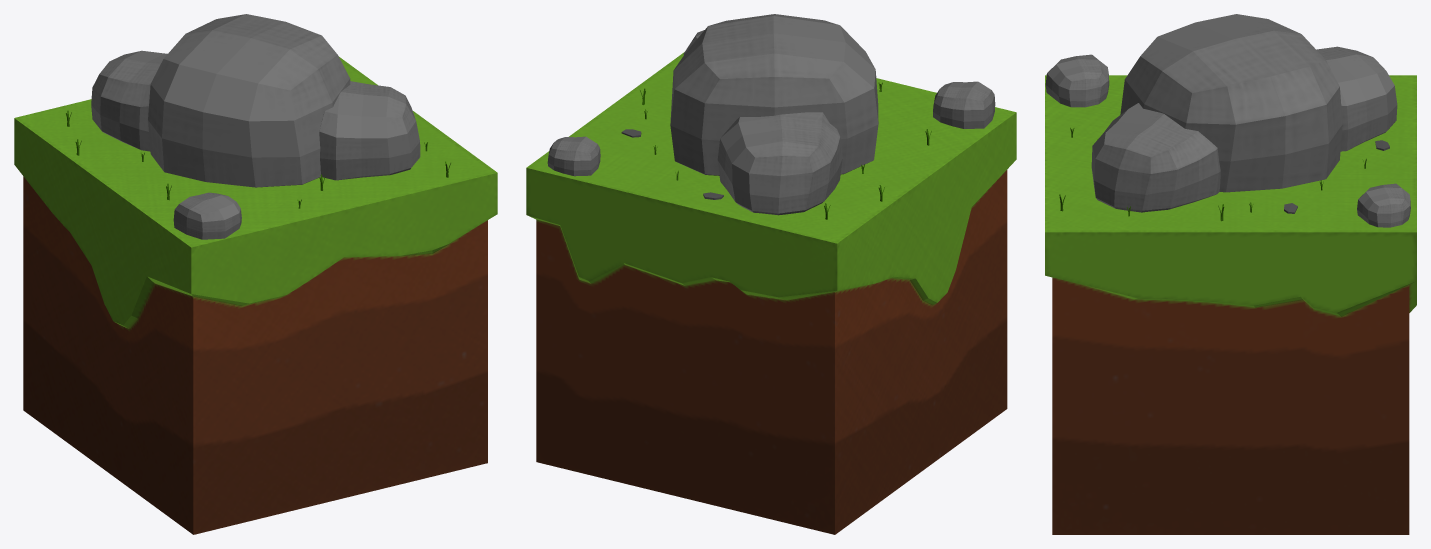
The model's file is Concepts_21.fbx.
The picture shows the model from 3 angles, left to right: view 1: azimuth 30°, elevation 25°; view 2: azimuth 150°, elevation 25°; view 3: azimuth 270°, elevation 25°; orthographic projection. The views are drawn at different scales.
Visible parts, largest first — view 1: Cube.174, Cube.012; view 2: Cube.174, Cube.012, Cube.175; view 3: Cube.174, Cube.012, Cube.175.
Part boxes in pixels (<box>): Cube.174: <box>14,57,497,534</box>; Cube.012: <box>91,14,420,239</box>; Cube.174: <box>526,52,1016,534</box>; Cube.012: <box>547,14,995,215</box>; Cube.175: <box>621,82,931,219</box>; Cube.174: <box>1045,75,1416,534</box>; Cube.012: <box>1045,14,1410,227</box>; Cube.175: <box>1059,127,1389,221</box>.
Bounding box in the file's own units: 301 × 374 × 301.
